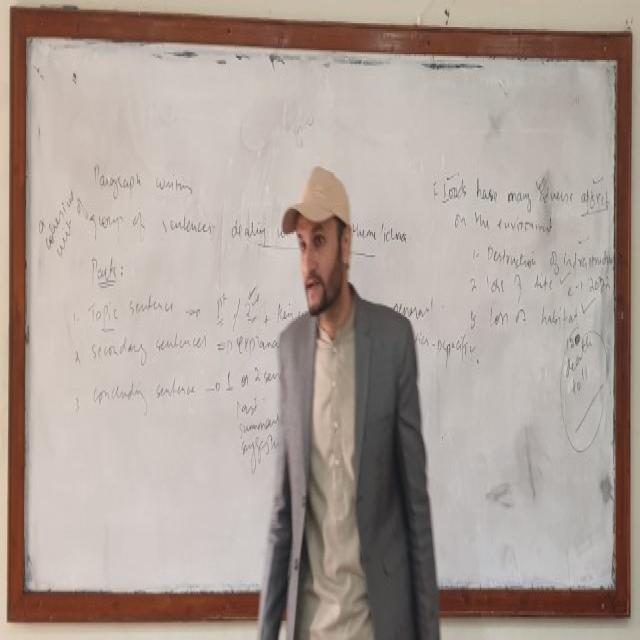Instructor: (266, 155, 418, 632)
White-board: (15, 22, 628, 609)
